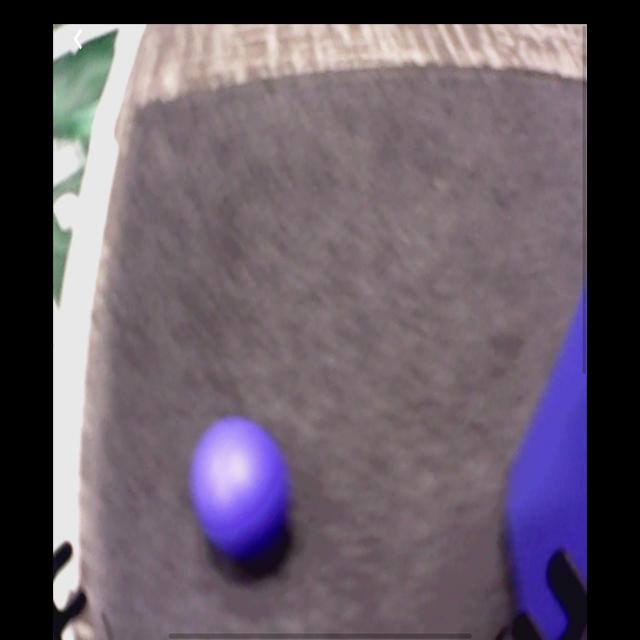ball: (190, 419, 291, 560)
